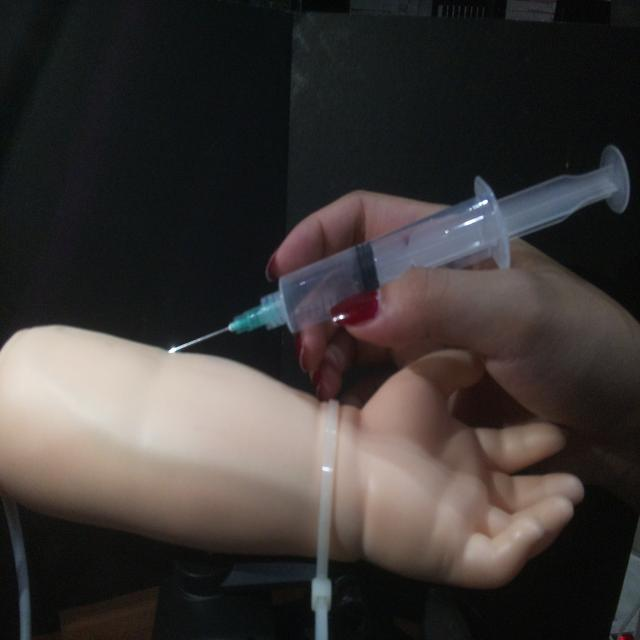25deg: (165, 139, 632, 357)
